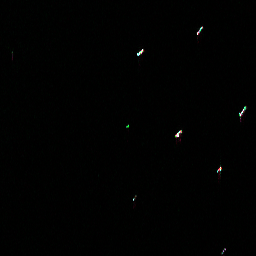ship: (235, 102, 249, 118), (171, 126, 186, 140), (194, 23, 205, 37), (135, 47, 145, 57), (214, 164, 224, 174), (130, 192, 139, 203), (219, 245, 228, 255)
